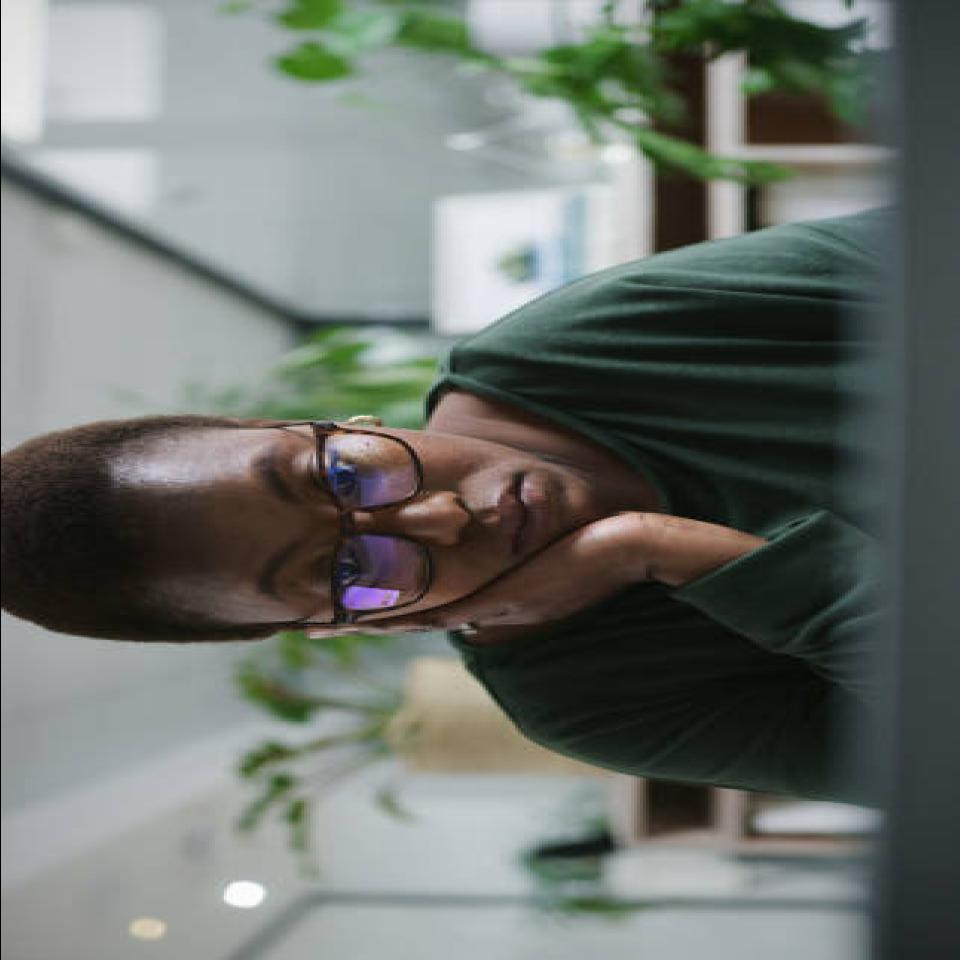Sadness: (127, 418, 588, 612)
